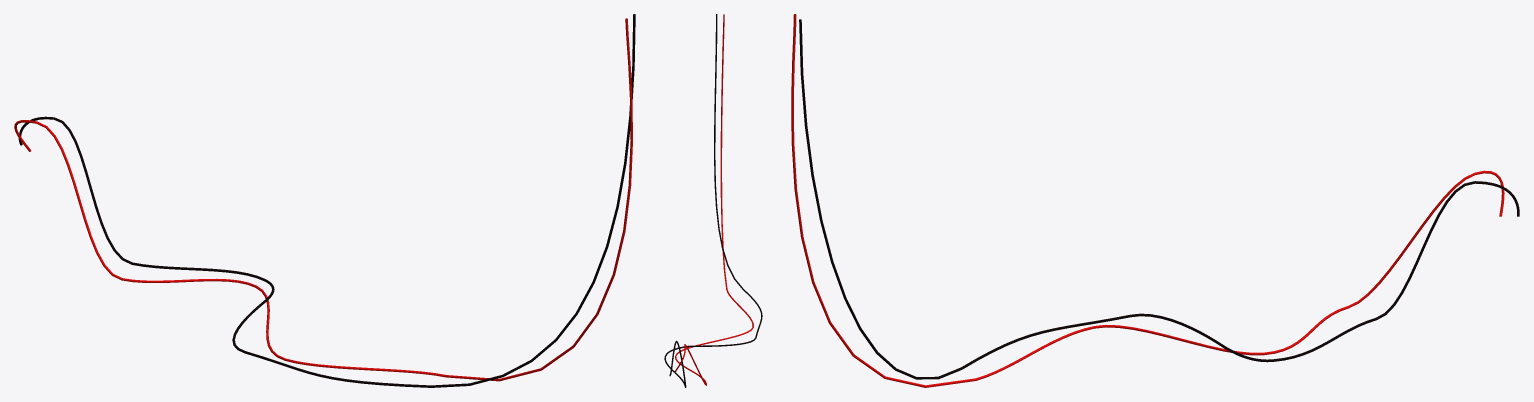
The model's file is RV_Powercables.fbx.
The picture shows the model from 3 angles, left to right: view 1: azimuth 30°, elevation 25°; view 2: azimuth 150°, elevation 25°; view 3: azimuth 270°, elevation 25°; orthographic projection. The views are drawn at different scales.
Visible parts, largest first — view 1: RV_PowerCables; view 2: RV_PowerCables; view 3: RV_PowerCables.
Boxes of the visible parts, x1,y1,x2,y2 form: RV_PowerCables: [14, 14, 635, 387]; RV_PowerCables: [664, 14, 762, 387]; RV_PowerCables: [791, 14, 1519, 387].
Bounding box in the file's own units: 502 × 680 × 1087.
